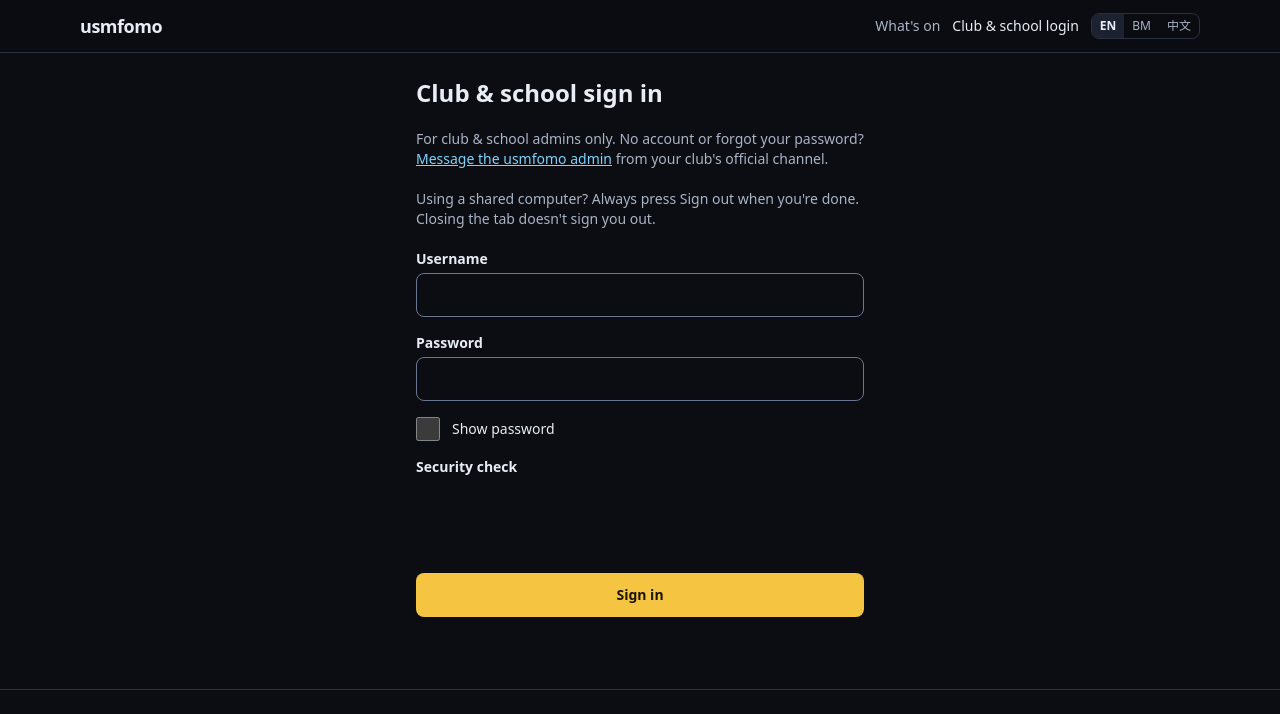
Test: LoginPage › turns the owner account away and signs it out of this browser only
This screenshot has width=1280, height=714.
Type "boss" into the field labelled "Username" at (640, 295), box [416, 273, 864, 317]
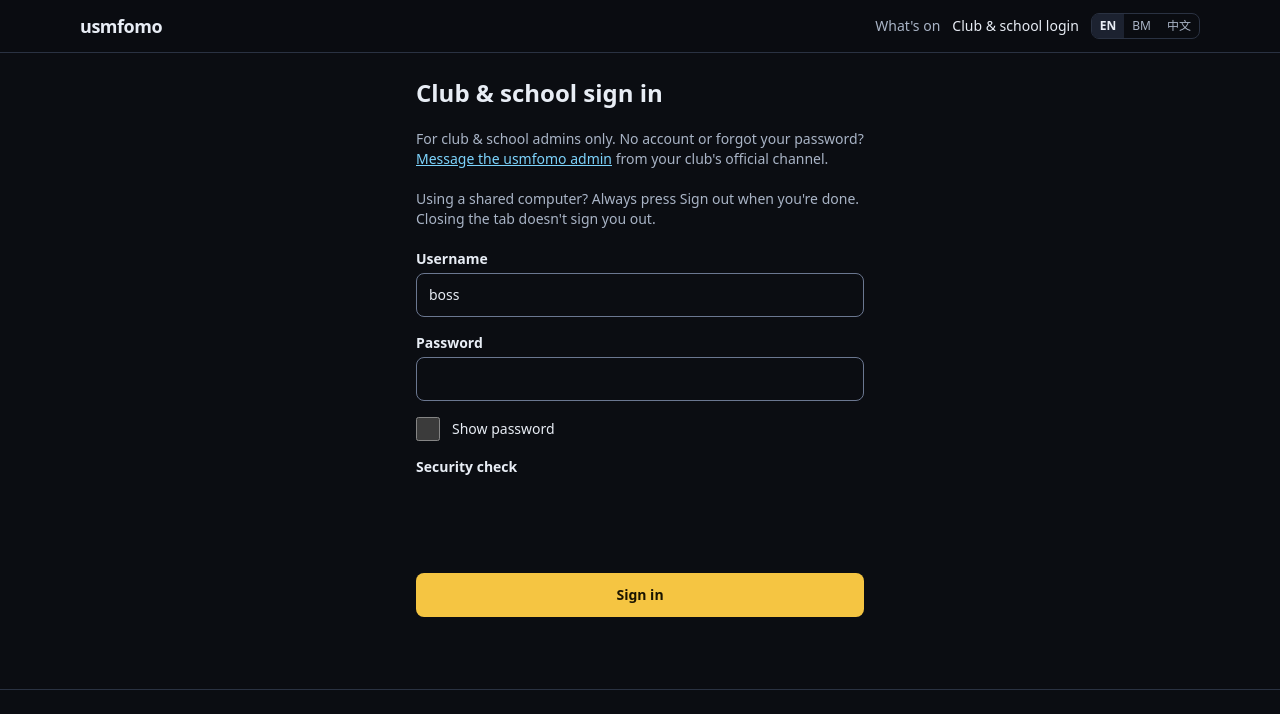
Type "correct horse" into the password field labelled "Password" at (640, 379), box [416, 357, 864, 401]
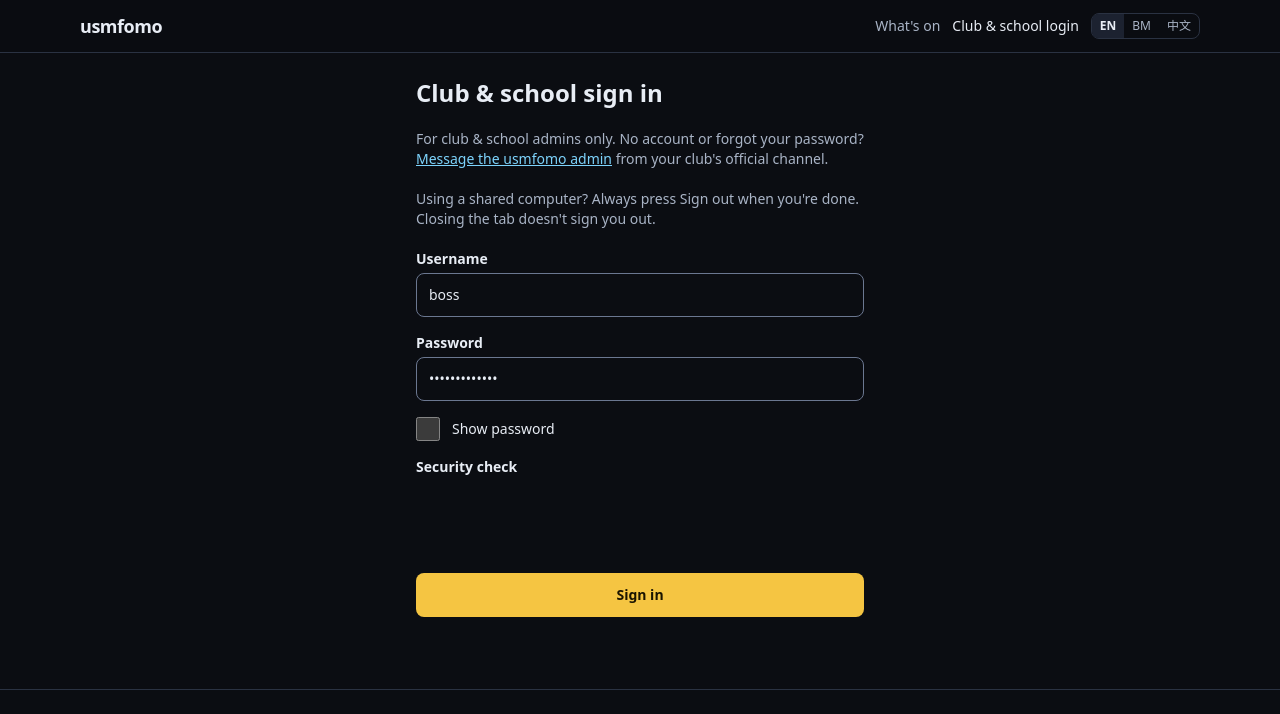
Click the button "Sign in" at (640, 595), box [416, 573, 864, 617]
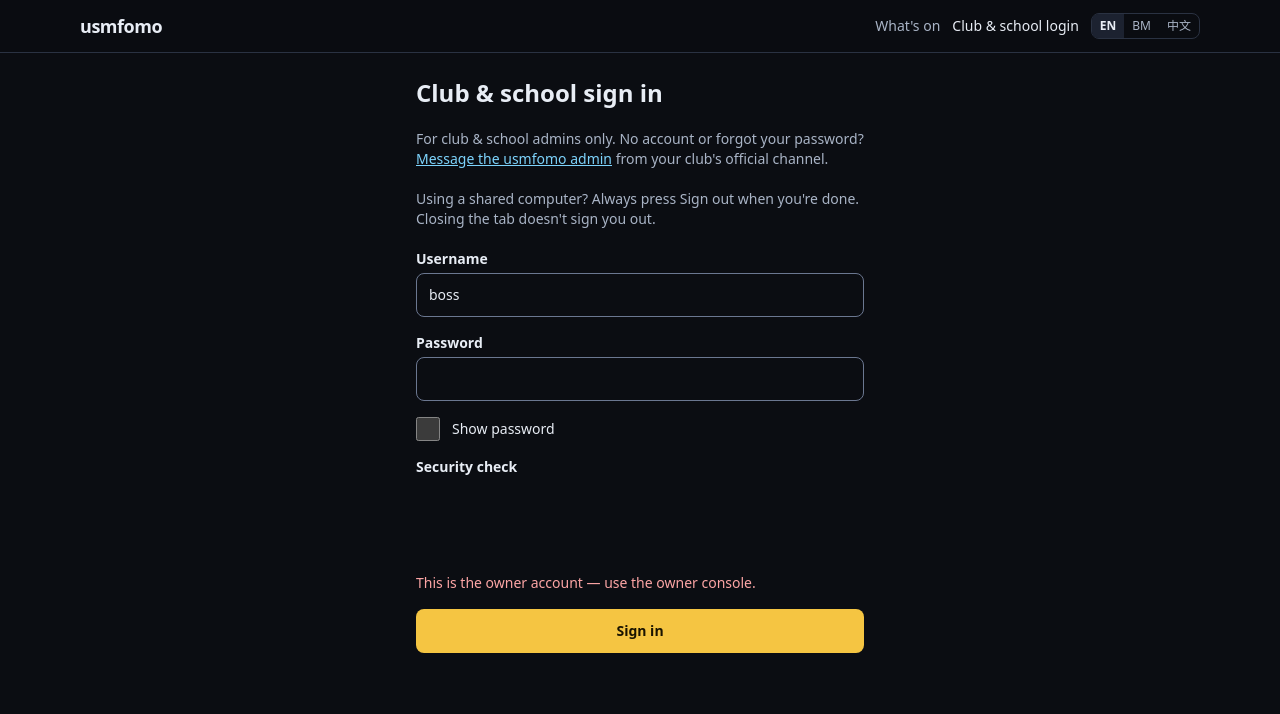
Now the message reads "This is the owner account — use the owner console.", box [416, 573, 756, 592]
